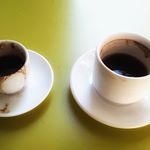cups: (91, 28, 150, 108), (1, 37, 31, 96)
